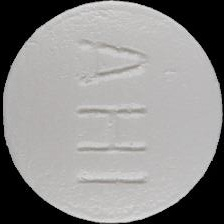63629-5269: (0, 0, 224, 224)
